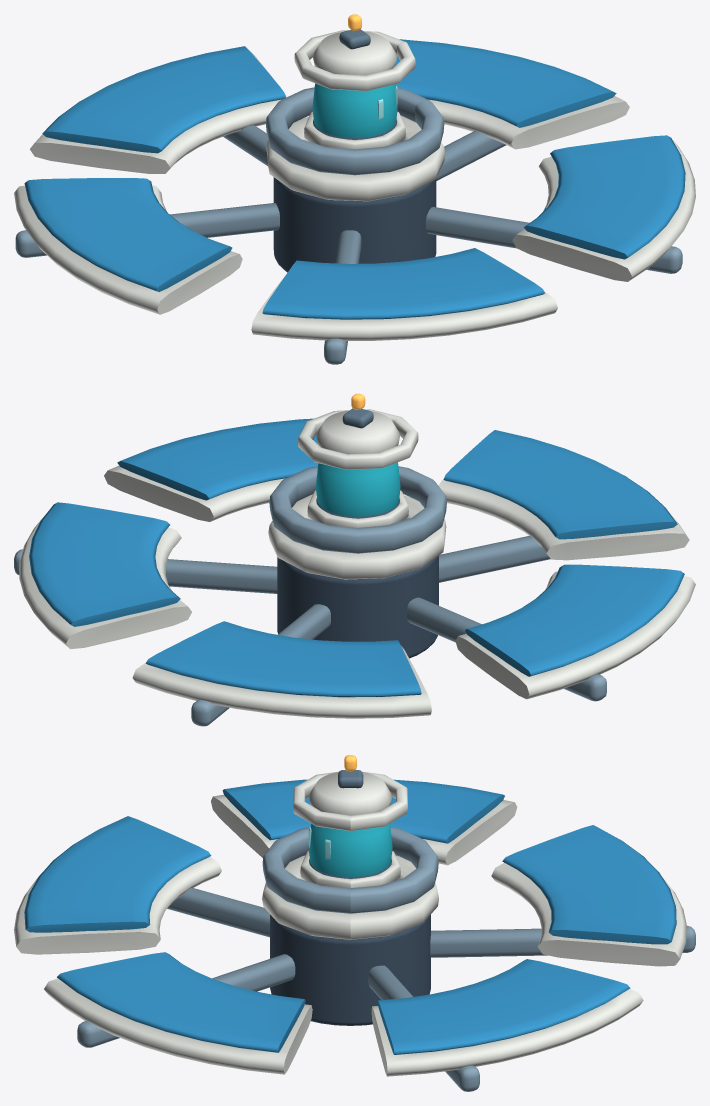
Rendered from stellar_energy_array_lv5.glb.
3 renders of one model, top to bottom at view 1: azimuth 30°, elevation 25°; view 2: azimuth 150°, elevation 25°; view 3: azimuth 270°, elevation 25°, orthographic.
Parts seen in each view (by area): view 1: Structure; view 2: Structure; view 3: Structure.
Boxes of the visible parts, x1,y1,x2,y2 form: Structure: [14, 14, 695, 364]; Structure: [14, 393, 695, 726]; Structure: [14, 755, 695, 1091].
Size of the model in its own units: 9.59 by 3.75 by 9.75.
